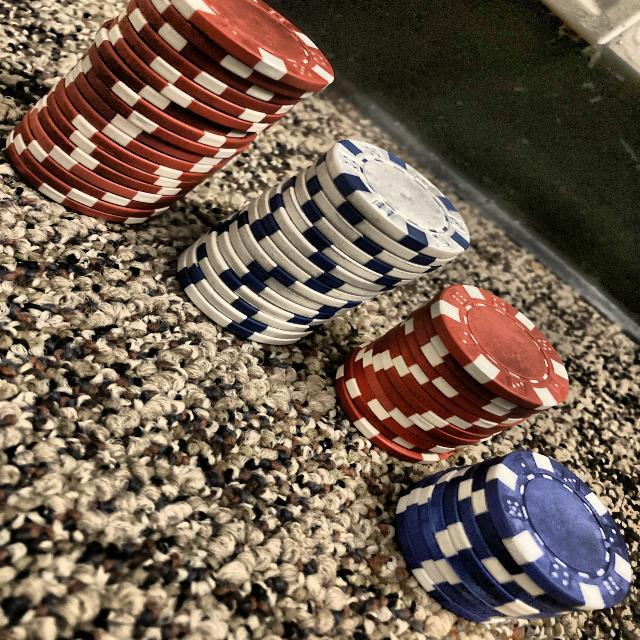Chip: (0, 0, 350, 235), (185, 108, 500, 332), (338, 262, 594, 476), (376, 434, 640, 633)
